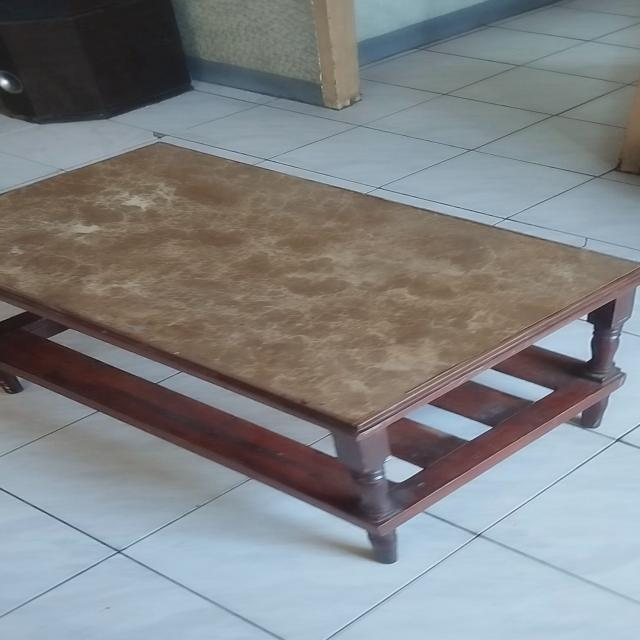table: (0, 140, 640, 568)
